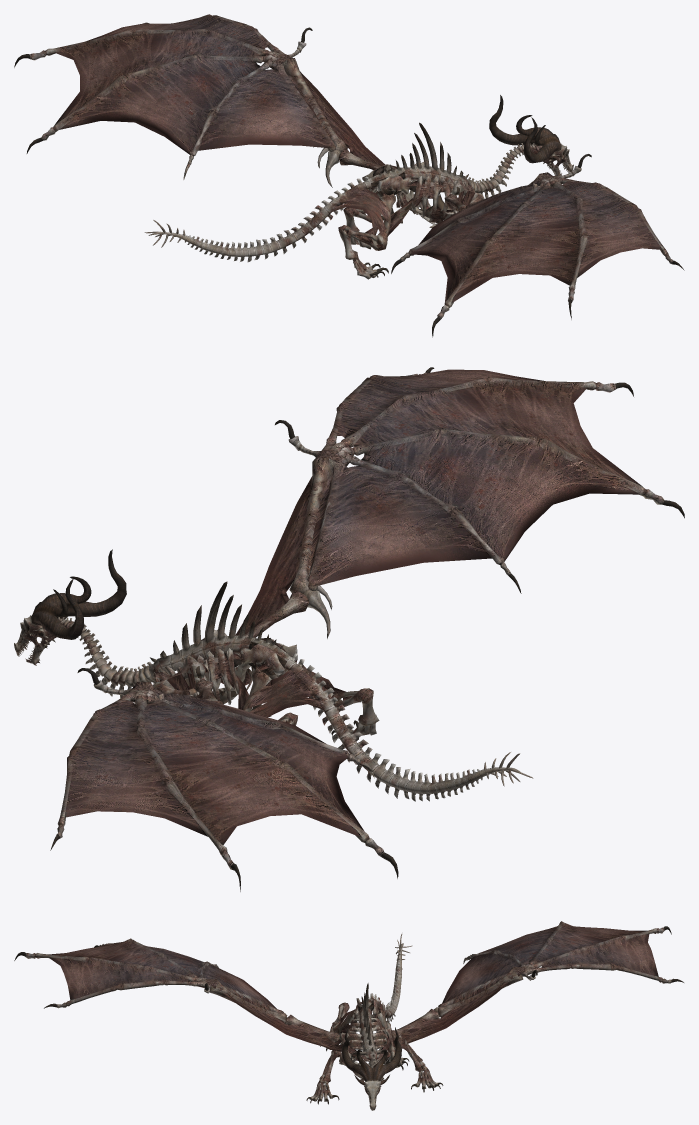
The model's file is skull.FBX.
3 views of the same model, one above another, from view 1: azimuth 30°, elevation 25°; view 2: azimuth 150°, elevation 25°; view 3: azimuth 270°, elevation 25° (orthographic). The views are drawn at different scales.
Parts seen in each view (by area): view 1: AN_NPC_MOB_BoneDragon_SK; view 2: AN_NPC_MOB_BoneDragon_SK; view 3: AN_NPC_MOB_BoneDragon_SK.
Part boxes in pixels (x1,y1,x2,y2): AN_NPC_MOB_BoneDragon_SK: [14, 14, 684, 337]; AN_NPC_MOB_BoneDragon_SK: [14, 367, 684, 891]; AN_NPC_MOB_BoneDragon_SK: [14, 921, 683, 1110].
Size of the model in its own units: 732 by 264 by 1325.
Materials: 7 (7 with a texture image).
